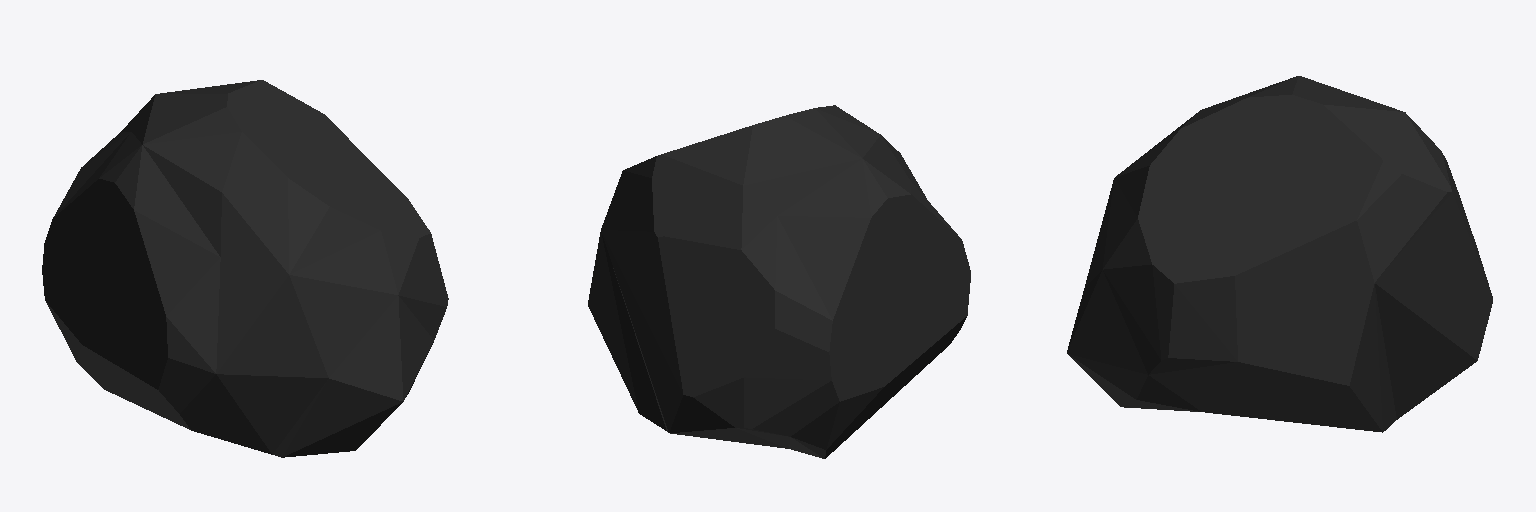
File: rock_as_weapon.obj
3 views of the same model, side by side, from view 1: azimuth 30°, elevation 25°; view 2: azimuth 150°, elevation 25°; view 3: azimuth 270°, elevation 25° (orthographic).
Parts seen in each view (by area): view 1: Icosphere_Rock; view 2: Icosphere_Rock; view 3: Icosphere_Rock.
Boxes of the visible parts, <box> form: Icosphere_Rock: <box>42,80,448,457</box>; Icosphere_Rock: <box>588,105,970,458</box>; Icosphere_Rock: <box>1067,76,1492,432</box>.
Size of the model in its own units: 0.1887 by 0.1823 by 0.2347.